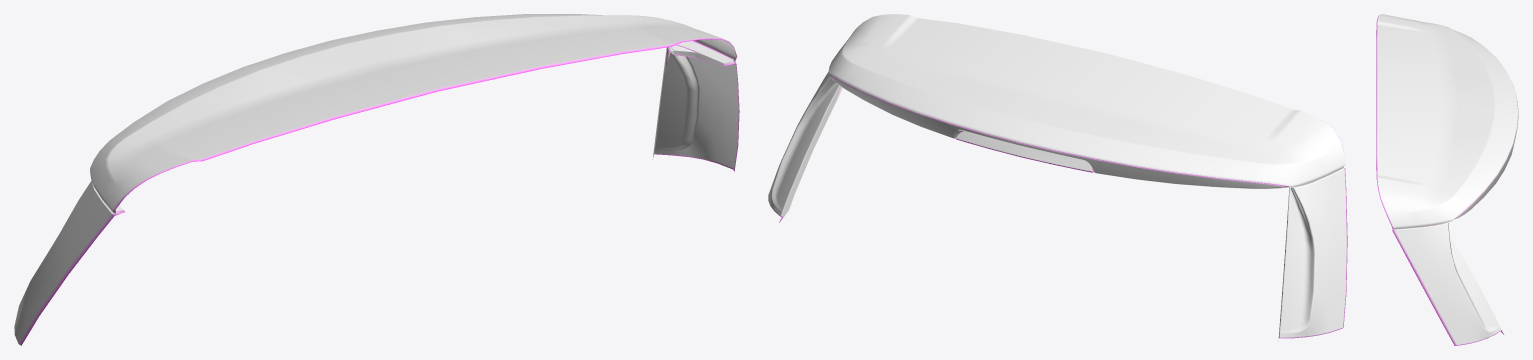
File: Car_Mini_CountrymanJCW_2017_Spoiler_SetA_AltB.fbx
The picture shows the model from 3 angles, left to right: view 1: azimuth 30°, elevation 25°; view 2: azimuth 150°, elevation 25°; view 3: azimuth 270°, elevation 25°; orthographic projection. The views are drawn at different scales.
Visible parts, largest first — view 1: Spoiler 6; view 2: Spoiler 6; view 3: Spoiler 6.
Boxes of the visible parts, x1,y1,x2,y2 form: Spoiler 6: (14, 14, 739, 345); Spoiler 6: (768, 14, 1347, 341); Spoiler 6: (1376, 14, 1518, 345).
Size of the model in its own units: 1.32 by 0.3879 by 0.3479.
